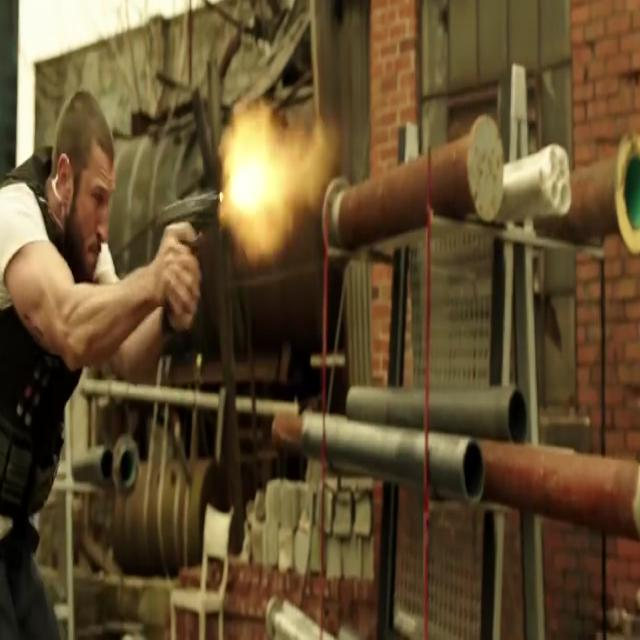Weapon: (144, 177, 222, 357)
